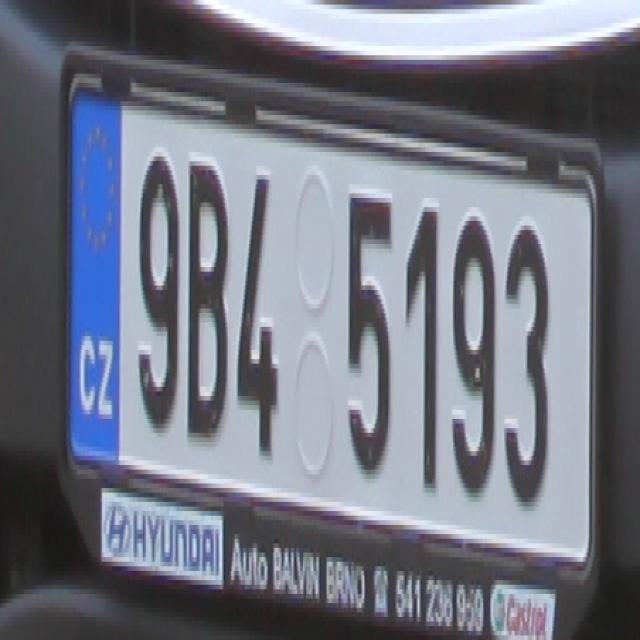1: (404, 194, 441, 484)
3: (504, 216, 549, 506)
4: (235, 166, 280, 460)
5: (347, 184, 394, 479)
9: (450, 217, 494, 498), (136, 147, 177, 424)
B: (184, 147, 228, 447)
